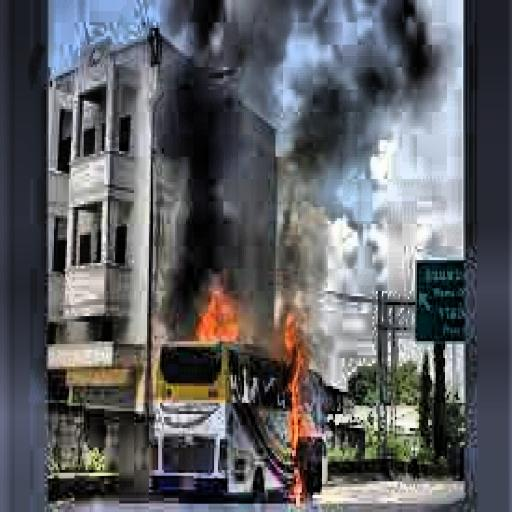fire: (266, 300, 318, 506), (188, 280, 250, 352)
